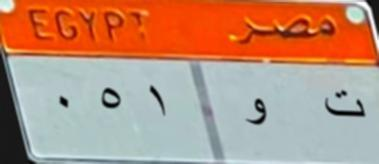0: (51, 84, 78, 125)
1: (140, 78, 174, 130)
5: (92, 80, 130, 123)
taa: (316, 85, 372, 133)
waw: (238, 90, 280, 138)
